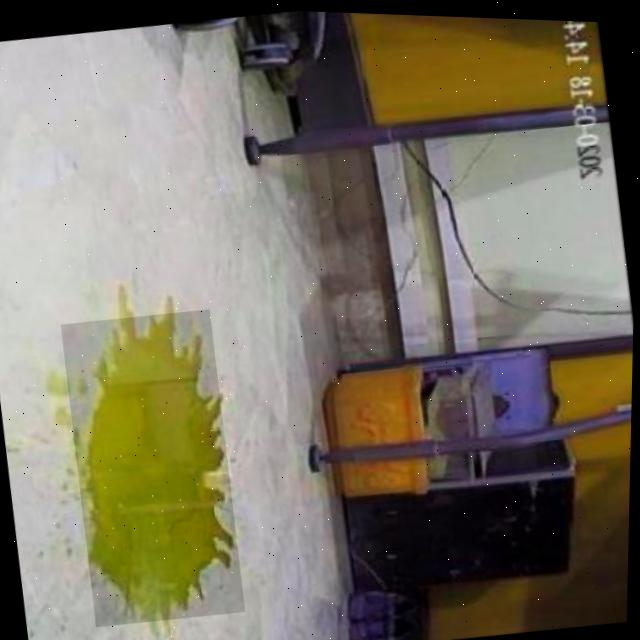spillage: (85, 313, 234, 619)
